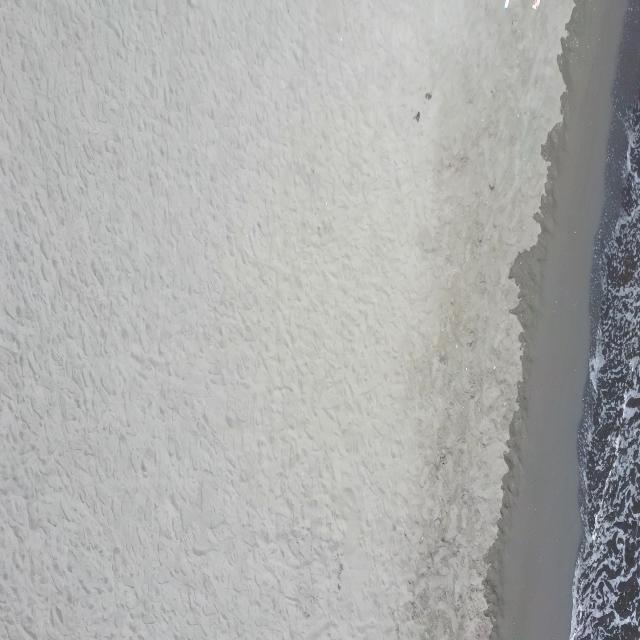retort-pouch: (530, 0, 540, 10), (503, 0, 510, 10)
